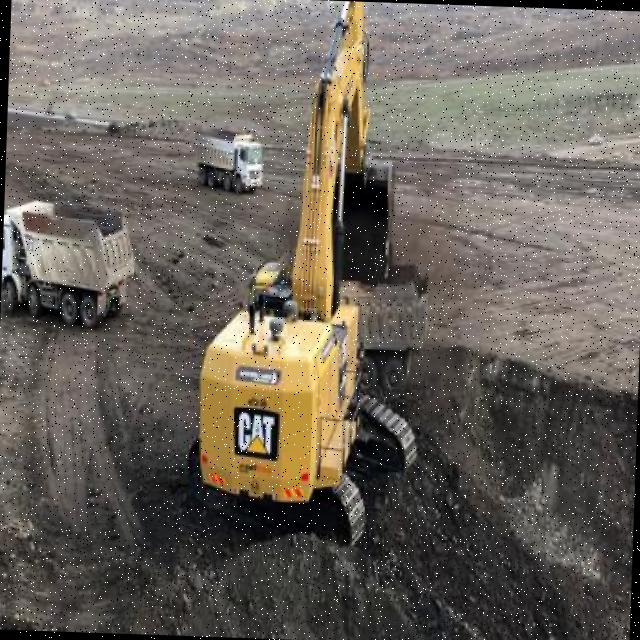Dump Truck: (0, 191, 138, 333), (188, 120, 265, 196)
Excavator: (180, 0, 436, 548)
